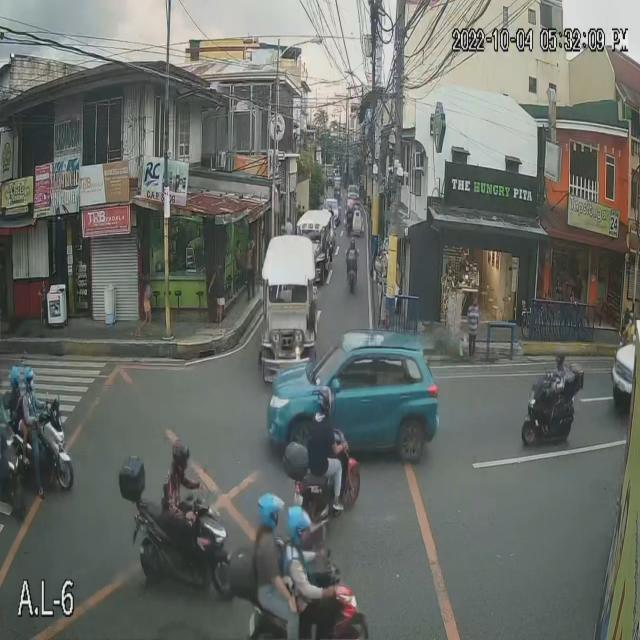full: (172, 438, 190, 476), (316, 384, 334, 419), (554, 346, 566, 367)
half: (285, 505, 315, 549), (257, 494, 284, 537), (8, 366, 23, 392), (23, 368, 34, 392)
